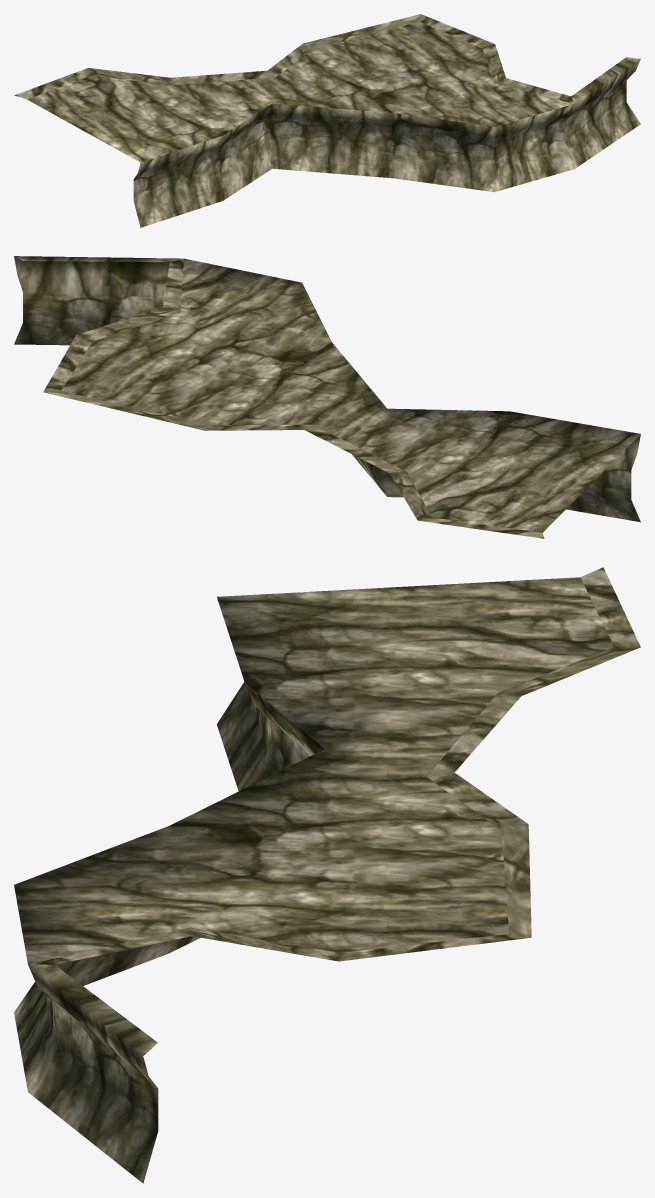
The model's file is CB_NEWPLAYSURFACE_CB_PLAYSURFACE111.fbx.
The picture shows the model from 3 angles, top to bottom: view 1: azimuth 30°, elevation 25°; view 2: azimuth 150°, elevation 25°; view 3: azimuth 270°, elevation 25°; orthographic projection. The views are drawn at different scales.
Visible parts, largest first — view 1: CB_NEWPLAYSURFACE_CB_PLAYSURFACE111; view 2: CB_NEWPLAYSURFACE_CB_PLAYSURFACE111; view 3: CB_NEWPLAYSURFACE_CB_PLAYSURFACE111.
Boxes of the visible parts, box(x1,y1,x2,y2) form: CB_NEWPLAYSURFACE_CB_PLAYSURFACE111: box(14, 14, 640, 227); CB_NEWPLAYSURFACE_CB_PLAYSURFACE111: box(14, 256, 640, 538); CB_NEWPLAYSURFACE_CB_PLAYSURFACE111: box(14, 567, 640, 1183).
Bounding box in the file's own units: 244972 × 30759 × 133617.
Materials: 2 (2 with a texture image).
